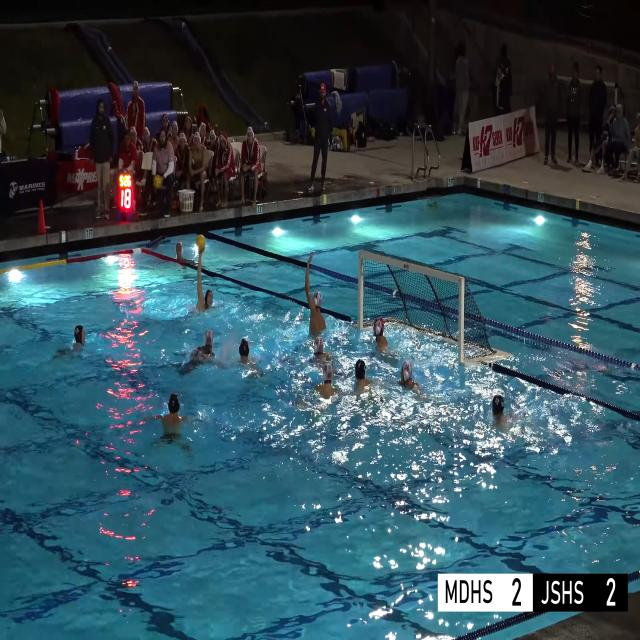ball: (196, 234, 206, 252), (153, 174, 162, 189)
